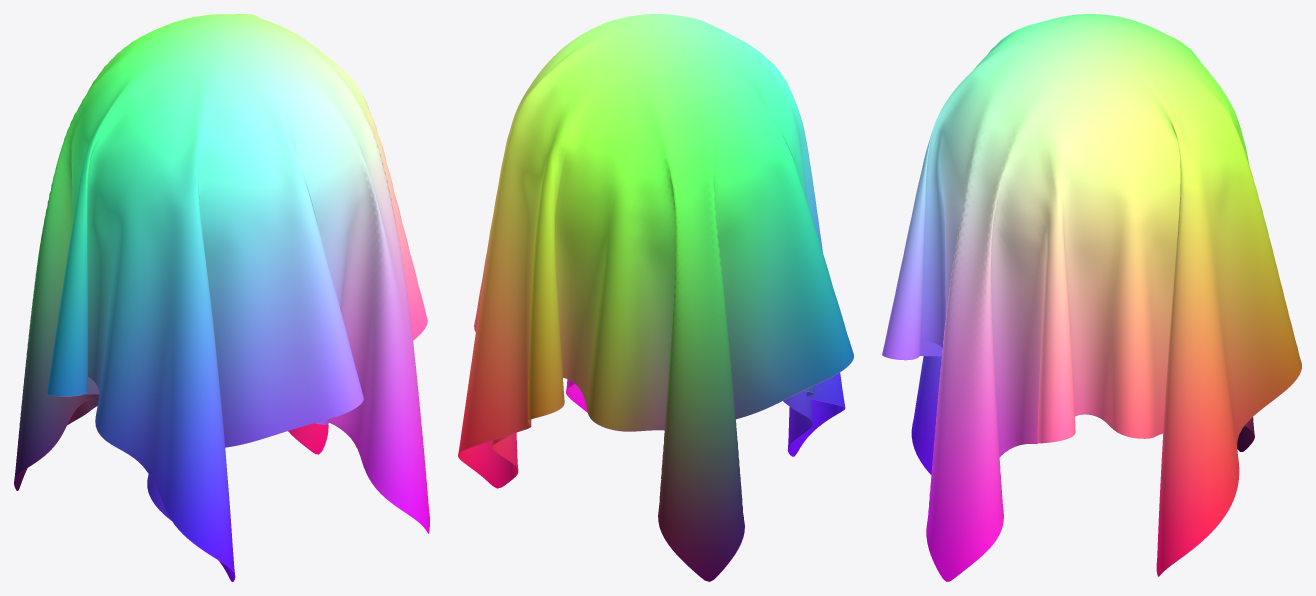
Rendered from cloth.gltf.
The picture shows the model from 3 angles, left to right: view 1: azimuth 30°, elevation 25°; view 2: azimuth 150°, elevation 25°; view 3: azimuth 270°, elevation 25°; orthographic projection. The views are drawn at different scales.
Visible parts, largest first — view 1: Cloth_Cloth_0; view 2: Cloth_Cloth_0; view 3: Cloth_Cloth_0.
Boxes of the visible parts, x1,y1,x2,y2 form: Cloth_Cloth_0: (14,14,429,581); Cloth_Cloth_0: (458,14,853,581); Cloth_Cloth_0: (882,14,1301,581).
Size of the model in its own units: 2.94 by 3.66 by 2.85.
